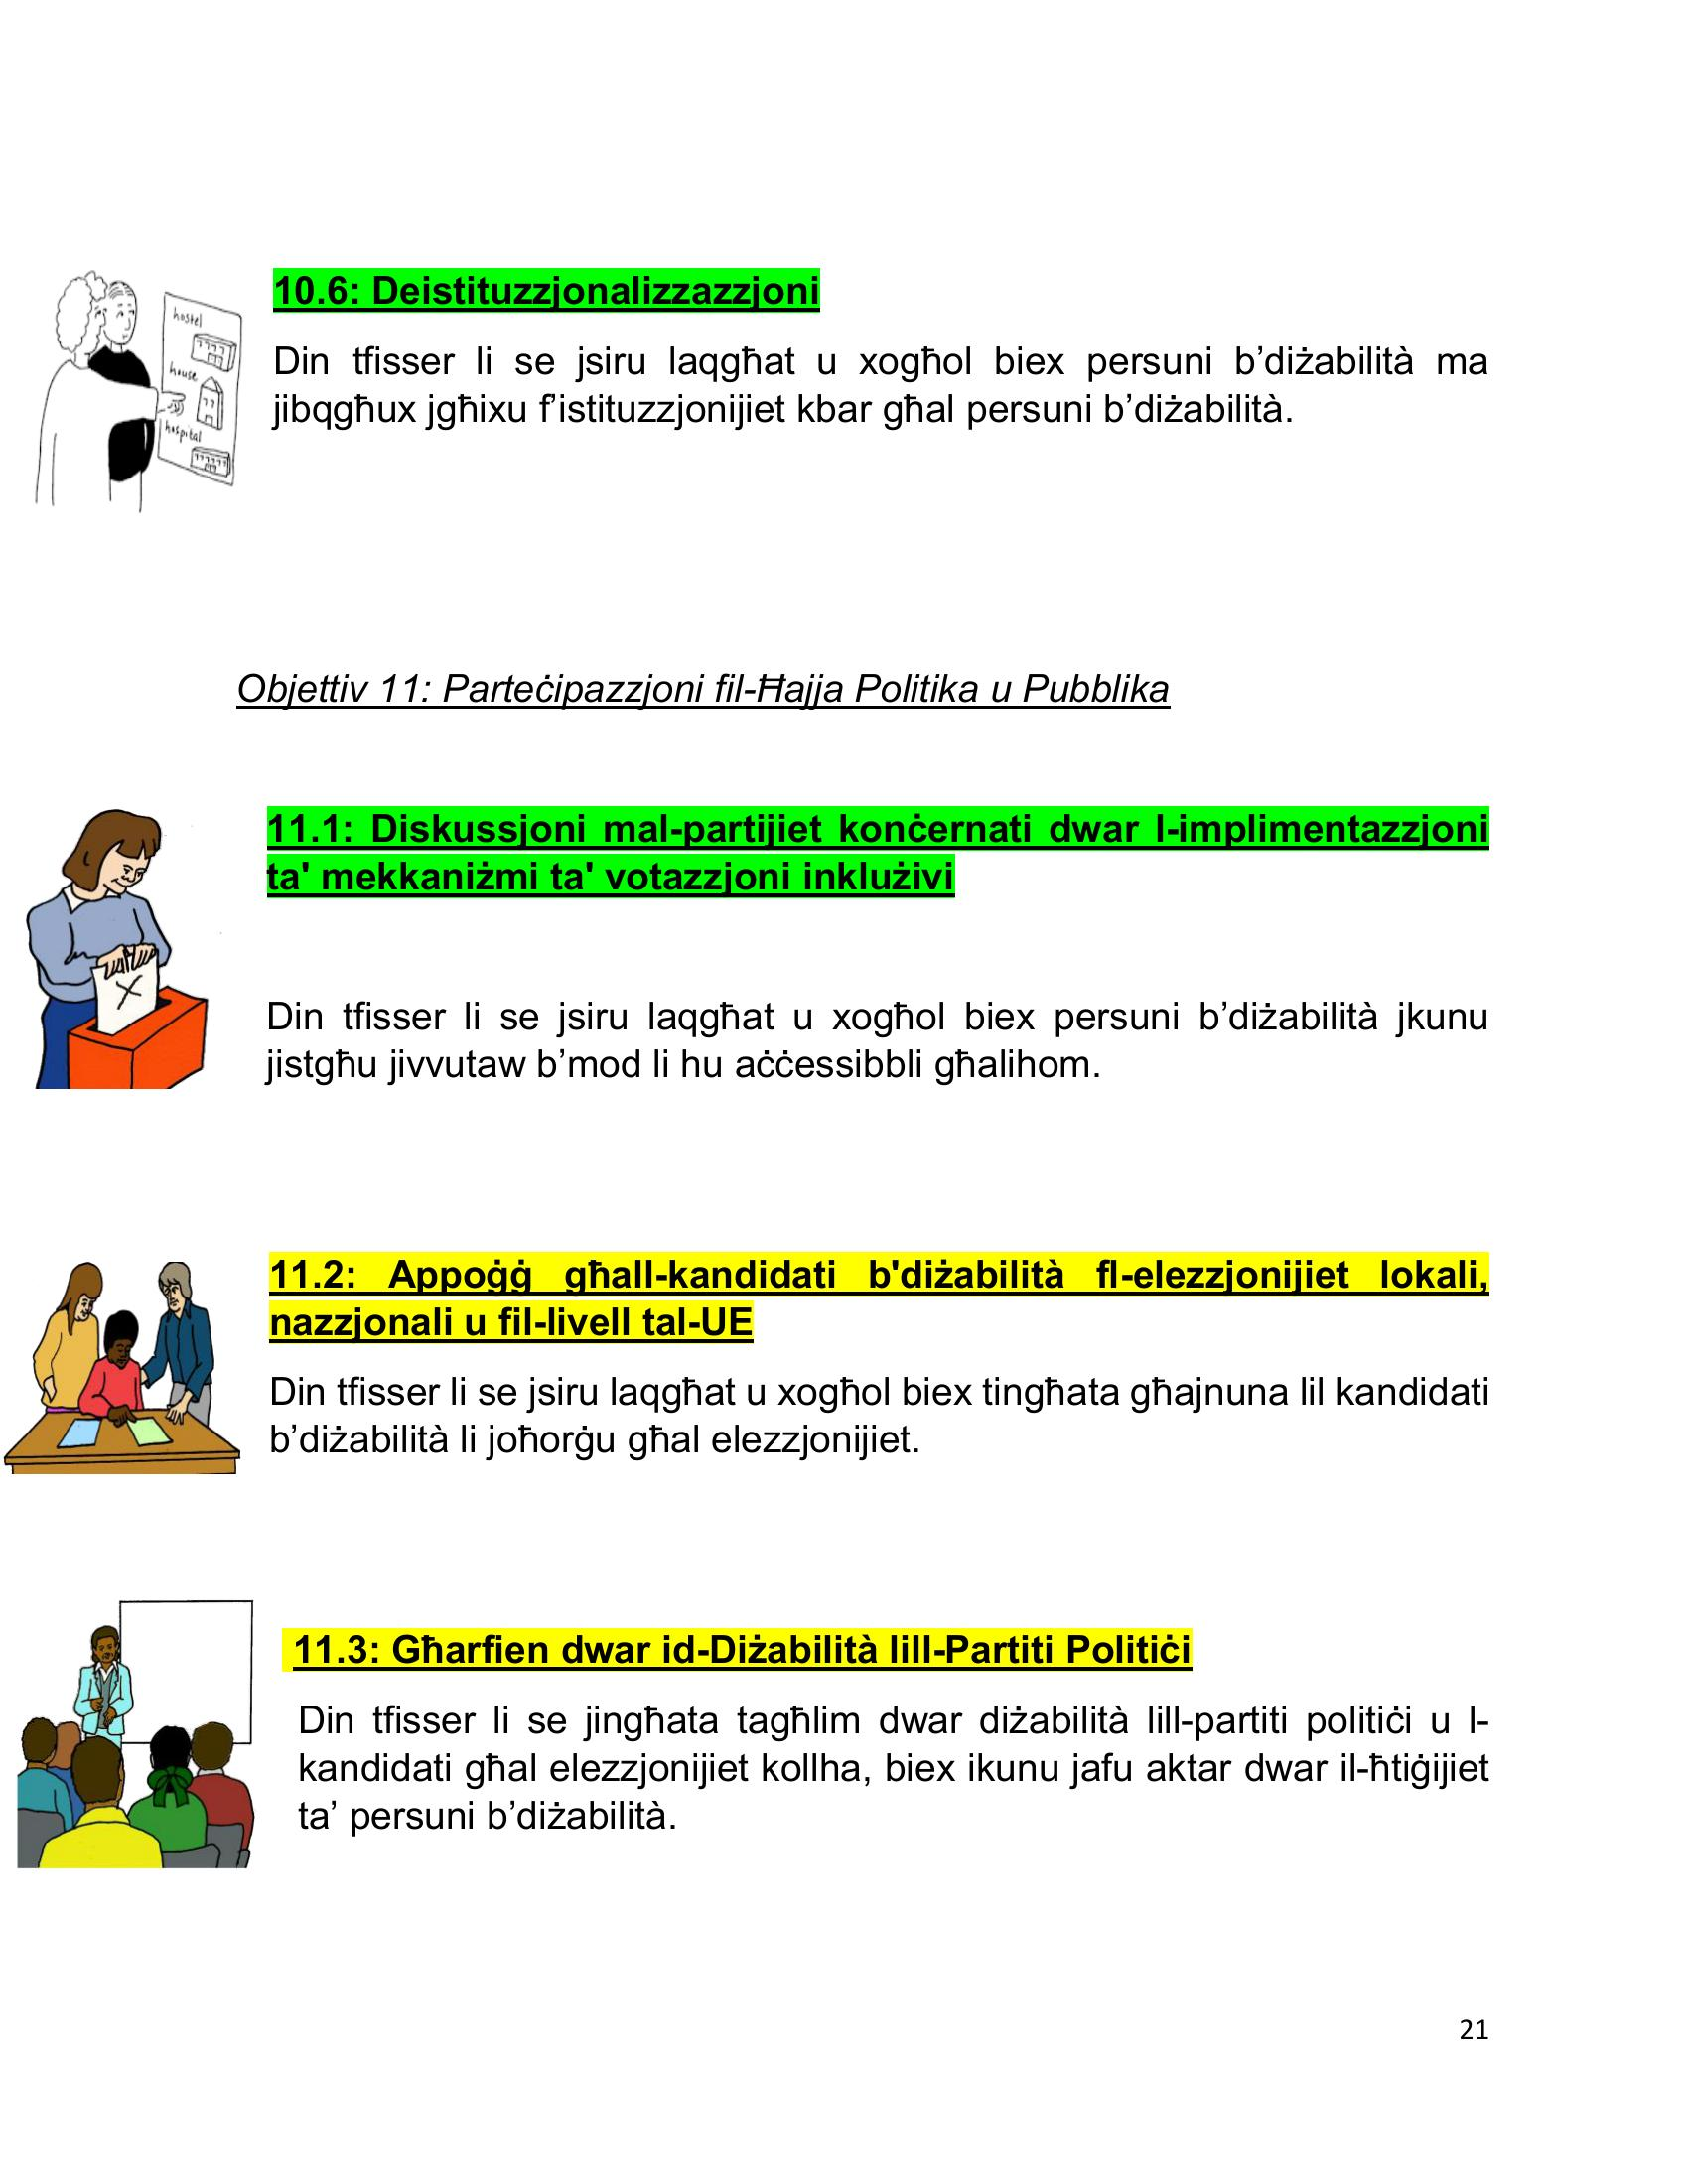text: (220, 199, 1528, 1879)
whiteout: (2, 784, 250, 1510), (2, 1574, 277, 1886), (2, 238, 255, 542)
